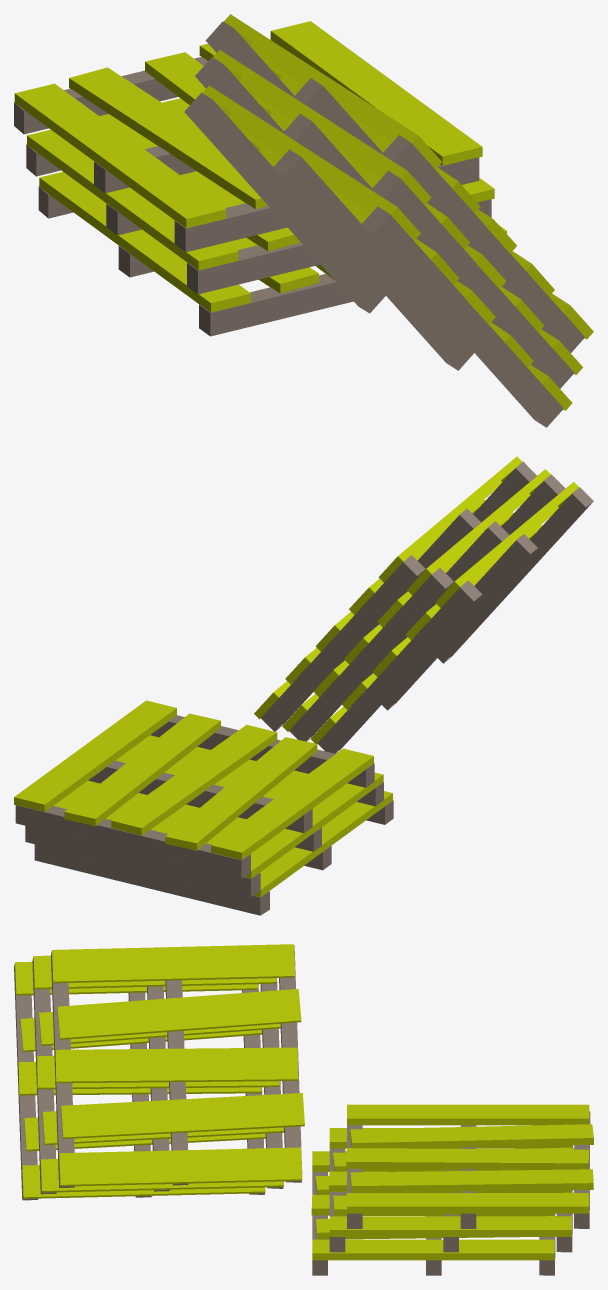
Rendered from Pallet_Side.fbx.
3 views of the same model, one above another, from view 1: azimuth 30°, elevation 25°; view 2: azimuth 150°, elevation 25°; view 3: azimuth 270°, elevation 25° (orthographic). The views are drawn at different scales.
Parts seen in each view (by area): view 1: Pallet_Side; view 2: Pallet_Side; view 3: Pallet_Side.
Part boxes in pixels (box(x1,y1,x2,y2)): Pallet_Side: box(14, 14, 593, 427); Pallet_Side: box(14, 456, 593, 915); Pallet_Side: box(14, 944, 593, 1275).
Bounding box in the file's own units: 21.48 × 18.71 × 42.23.
